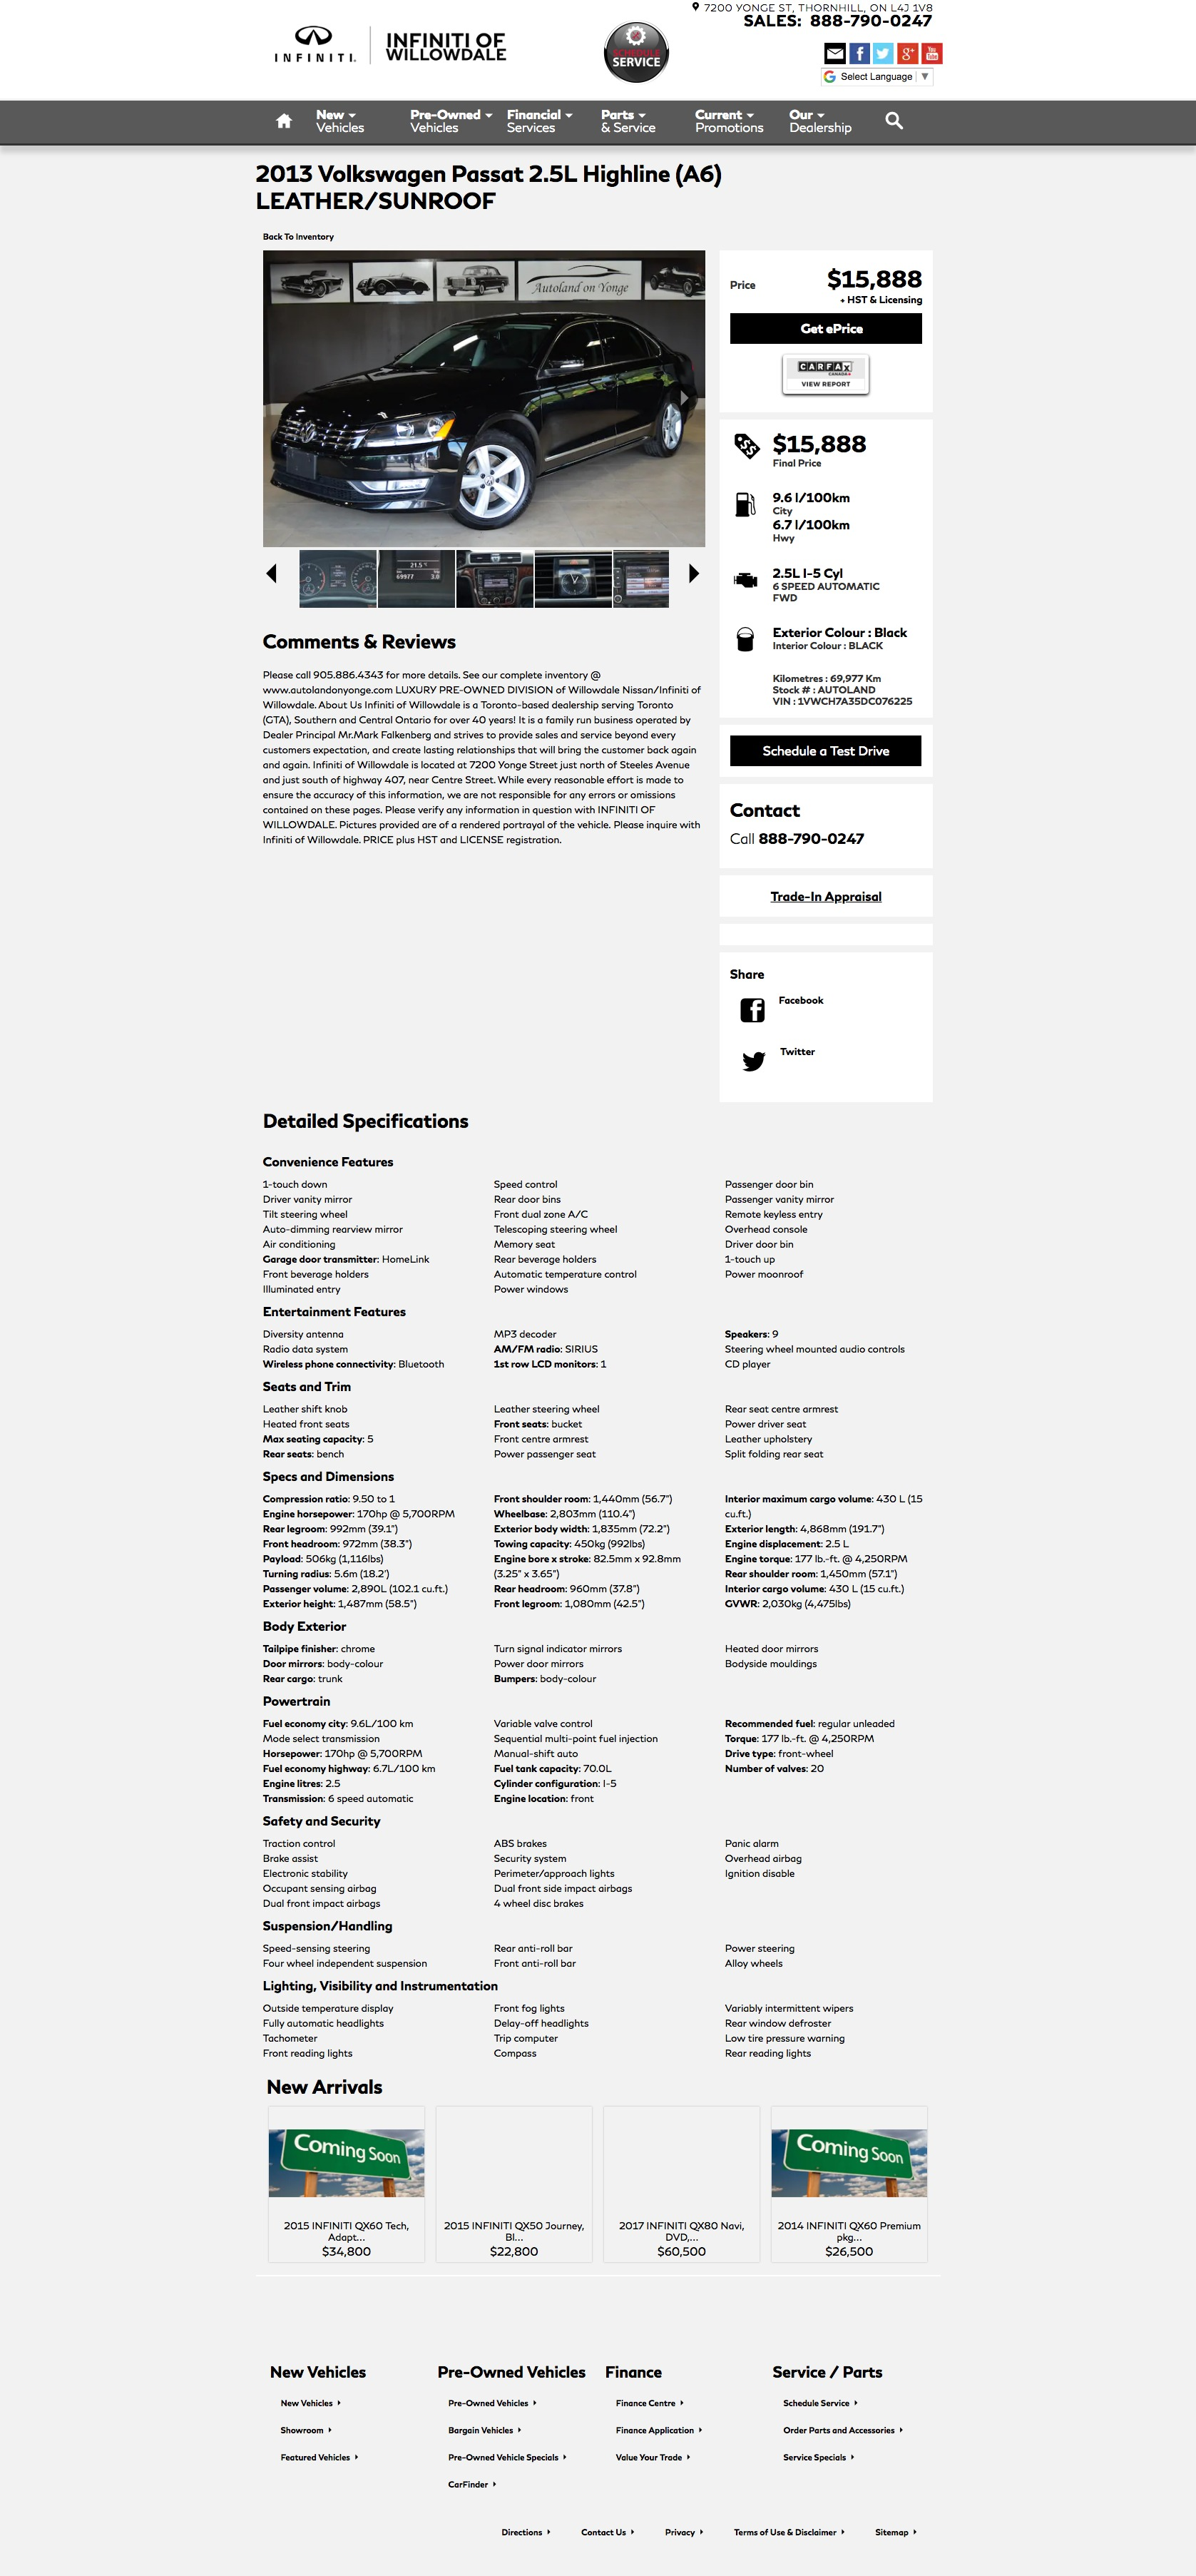car: (688, 563, 700, 585)
